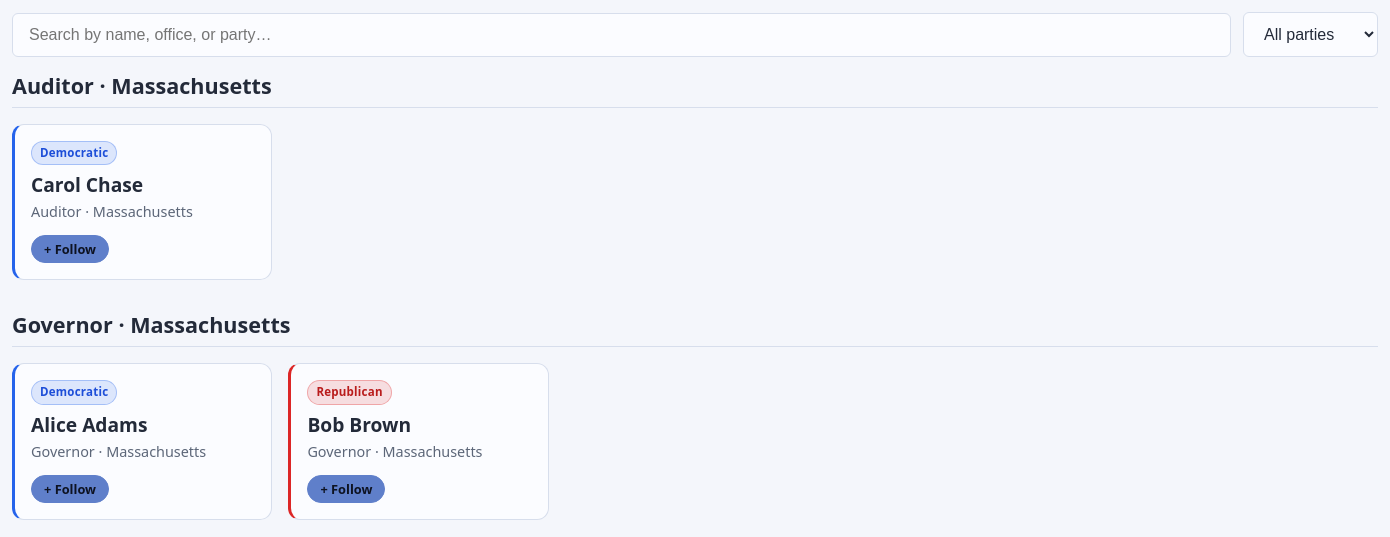
Scenario: CandidatesList empty state (Req 3.7) › renders the empty-state message and no race headings when nothing matches
Expected: the heading "Governor · Massachusetts" is shown, [12,312,1378,347]
Type "zzzznomatch" into the search field named "Search candidates".
click(622, 34); type("zzzznomatch")  # box [12,12,1231,56]
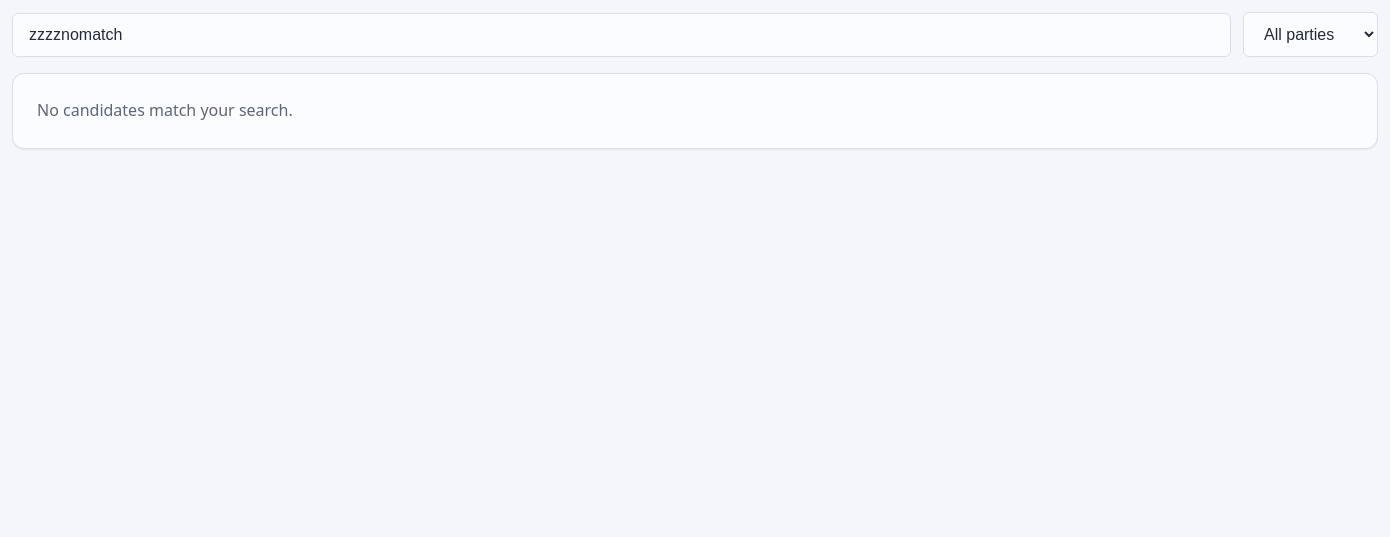
Result: the text "No candidates match your search." is shown at [12,73,1378,149]
Result: the heading "Governor · Massachusetts" is gone
Result: the heading "Auditor · Massachusetts" is gone
